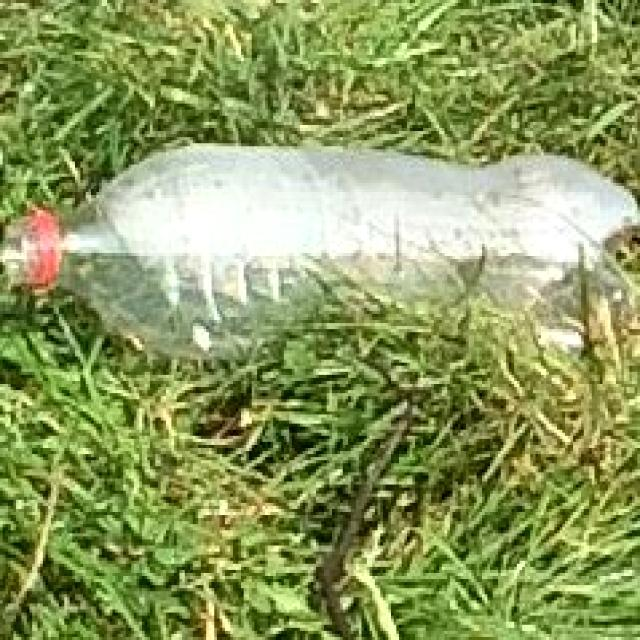Plastic: (2, 137, 640, 367)
